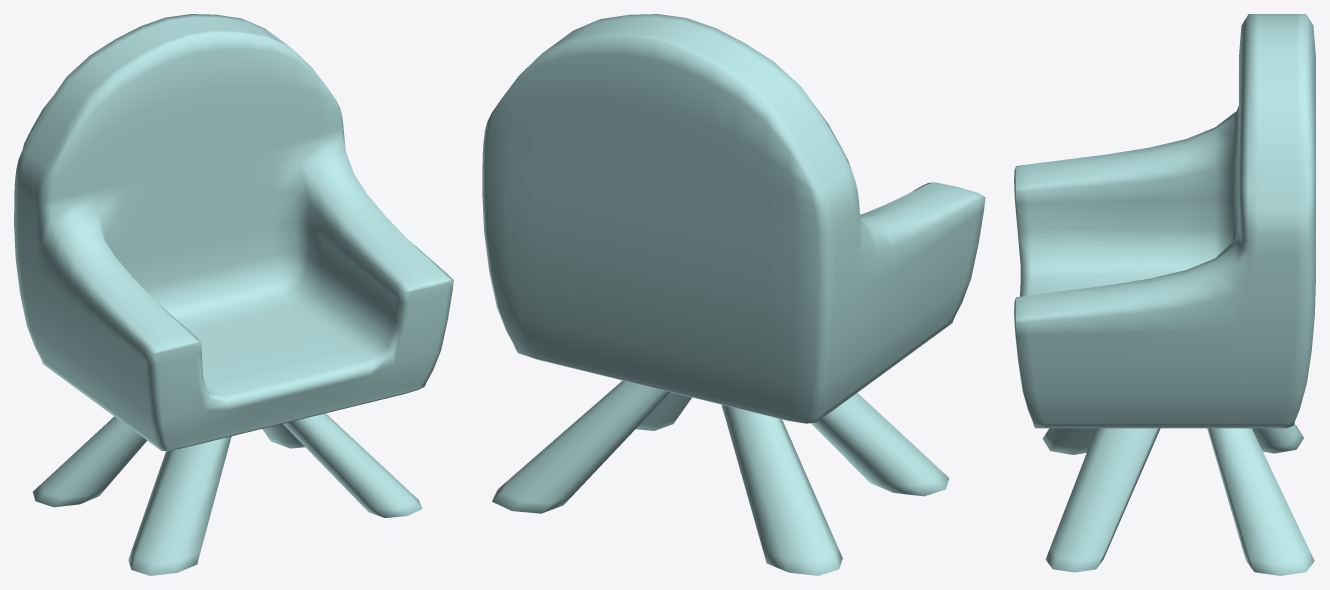
File: chair.fbx
3 views of the same model, side by side, from view 1: azimuth 30°, elevation 25°; view 2: azimuth 150°, elevation 25°; view 3: azimuth 270°, elevation 25° (orthographic). The views are drawn at different scales.
Parts seen in each view (by area): view 1: chair; view 2: chair; view 3: chair.
Part boxes in pixels (x1,y1,x2,y2): chair: (14,14,453,575); chair: (482,14,985,575); chair: (1014,14,1315,575).
Bounding box in the file's own units: 12.22 × 16.91 × 9.92.
